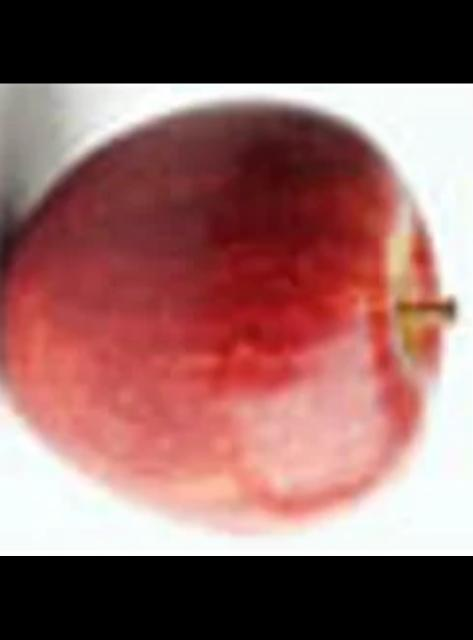Apples: (0, 98, 452, 534)
